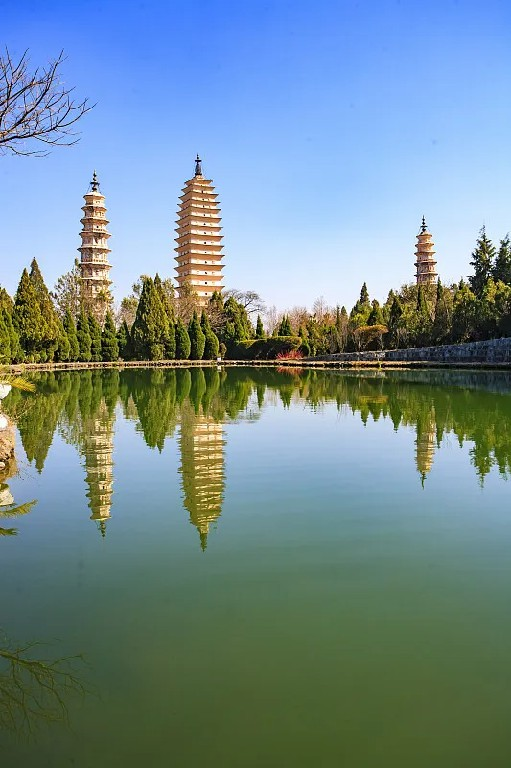ThreePagoda: (174, 154, 224, 297)
